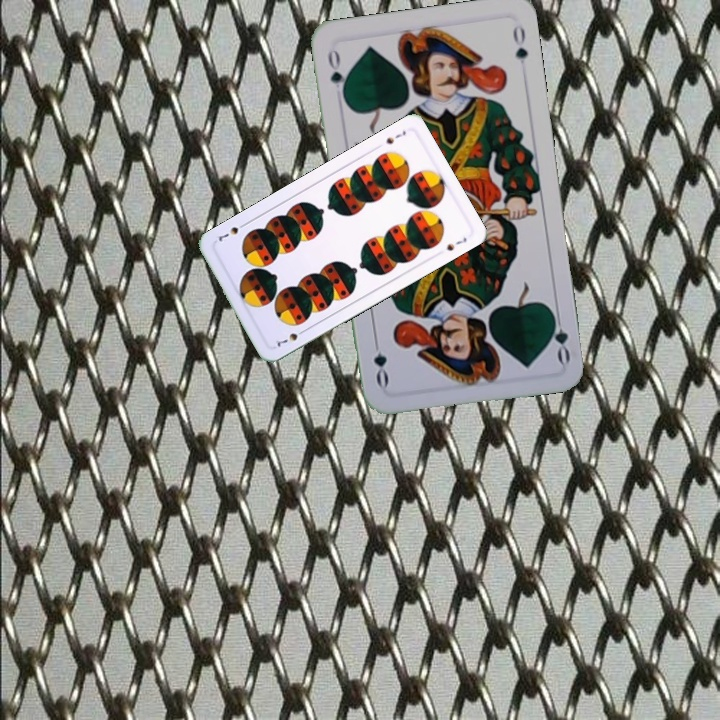GO: (546, 306, 573, 366), (324, 44, 349, 103)
S7: (271, 325, 309, 349), (381, 127, 409, 147)
